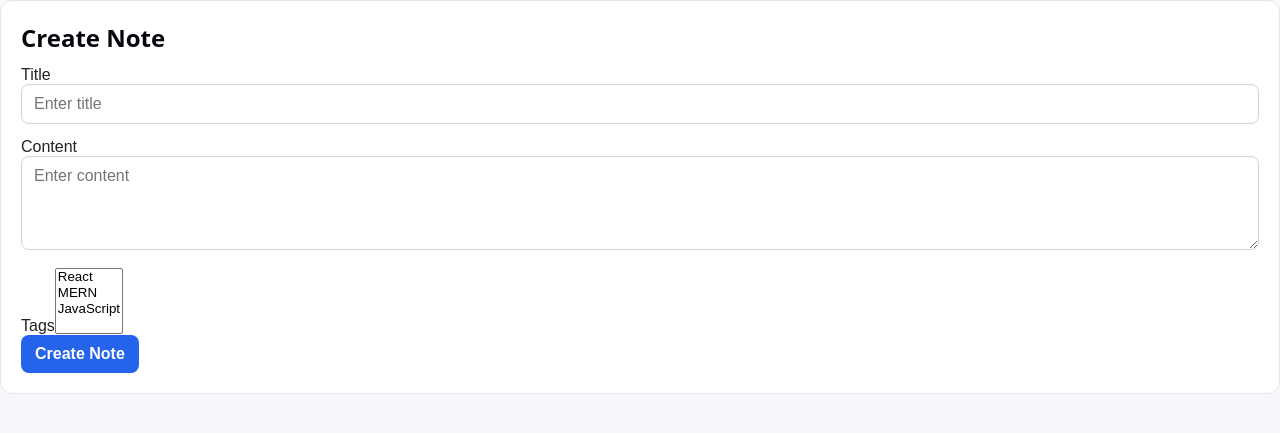
Scenario: NoteForm › shows validation error when title is less than 3 characters
Type "Hi" into the field labelled "Title". click: {"x": 640, "y": 104}
box: x1=21 y1=84 x2=1259 y2=124
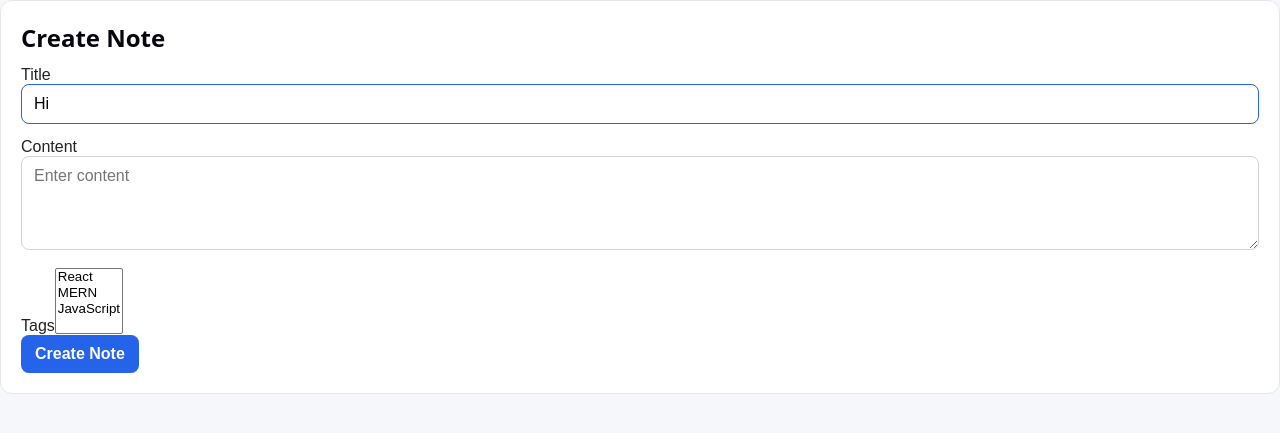
Type "Some content" into the text box with placeholder "Enter content". click: {"x": 640, "y": 203}
box: x1=21 y1=156 x2=1259 y2=250
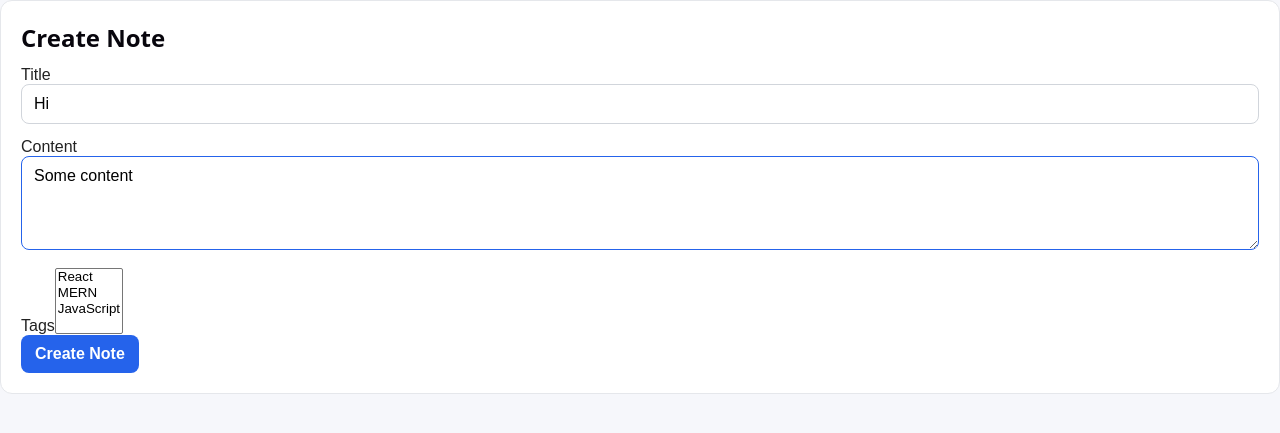
Click the button "Create Note". click: {"x": 80, "y": 354}
box: x1=21 y1=335 x2=139 y2=373
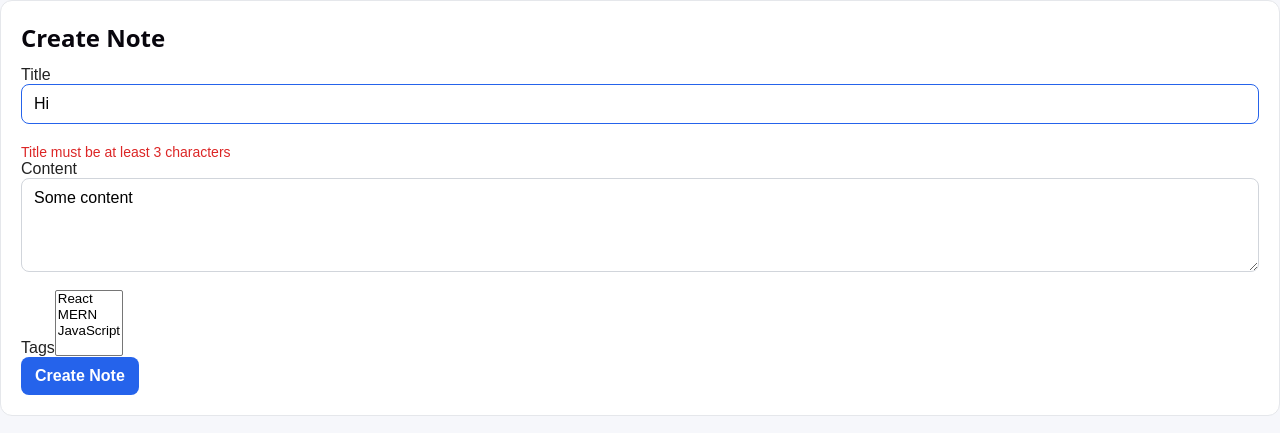
Now the text "Title must be at least 3 characters" is shown, box x1=21 y1=144 x2=231 y2=160
